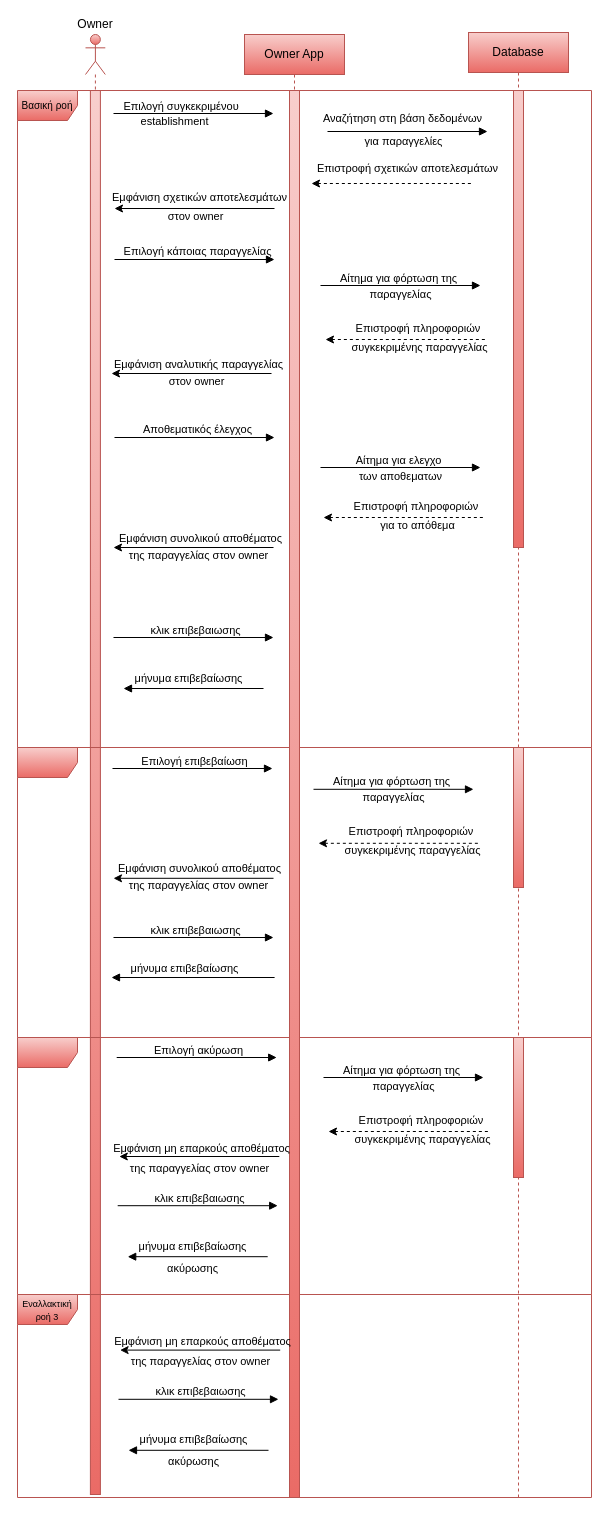
Some shapes in this 609 by 1515 pixel diagram are drawn without their labels. The box of each missing label's shape, as (x1, y1, x2, y2) in pixels:
Εναλλακτική ροή 1: (16, 746, 592, 1038)
Εναλλακτική ροή 2: (16, 1036, 592, 1294)
